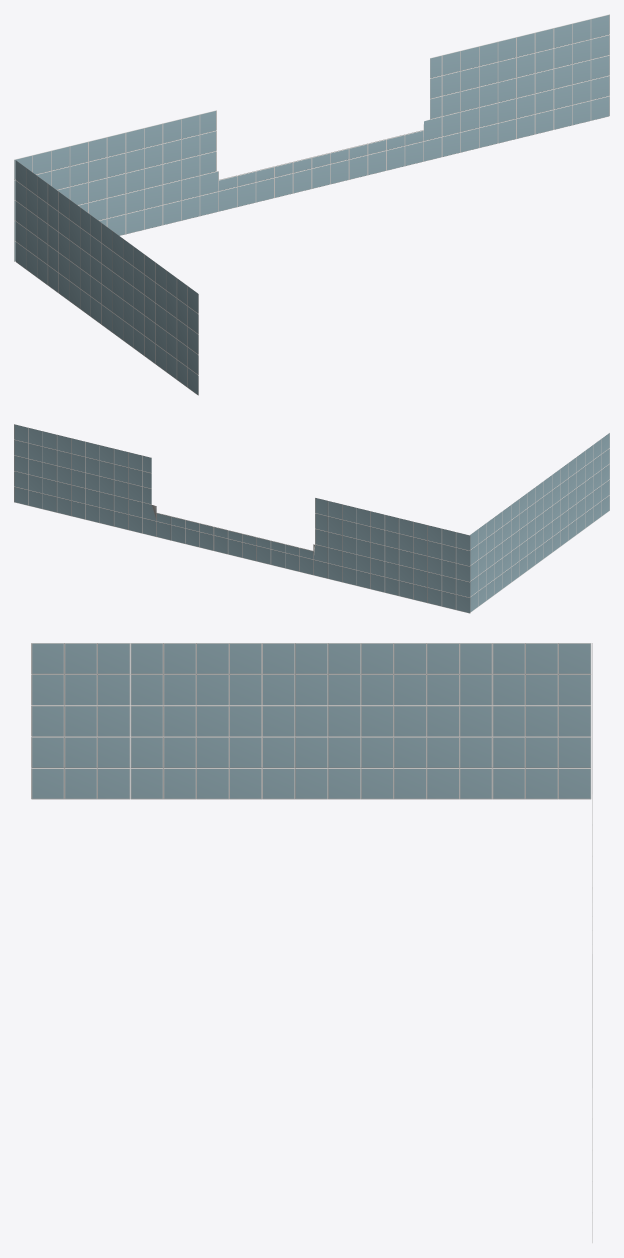
The model's file is Kitchen_2_Tiles.fbx.
The picture shows the model from 3 angles, top to bottom: view 1: azimuth 30°, elevation 25°; view 2: azimuth 150°, elevation 25°; view 3: azimuth 270°, elevation 25°; orthographic projection. The views are drawn at different scales.
Visible parts, largest first — view 1: Kitchen_2_Tiles; view 2: Kitchen_2_Tiles; view 3: Kitchen_2_Tiles.
Part boxes in pixels (box(x1,y1,x2,y2)): Kitchen_2_Tiles: box(14, 14, 609, 395); Kitchen_2_Tiles: box(14, 424, 609, 613); Kitchen_2_Tiles: box(31, 643, 592, 1242).
Size of the model in its own units: 490 by 80.14 by 261.
